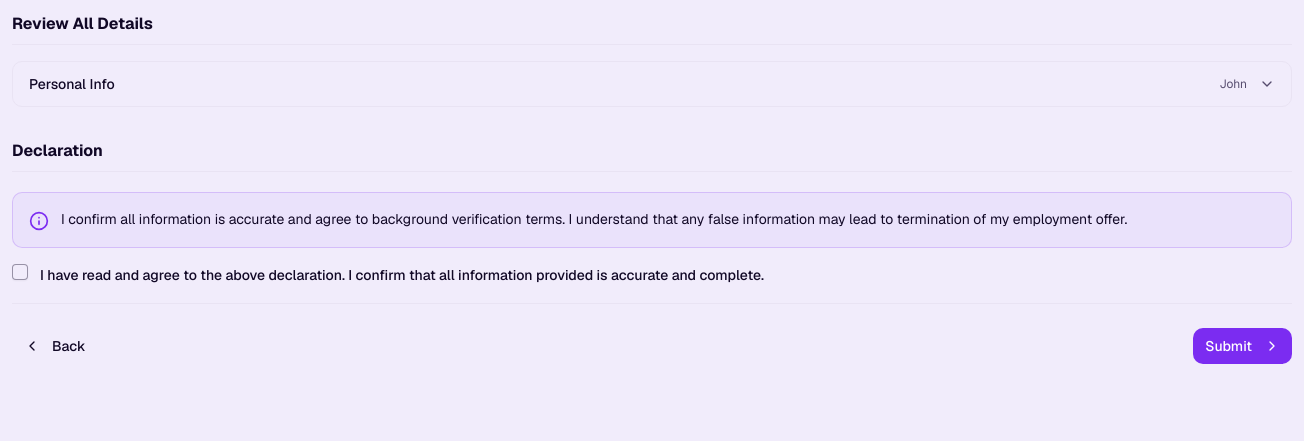
it: ReviewStep › displays server error message on submit failure
# Check the declaration checkbox (required)
Click the checkbox at (20, 272), box [12,264,28,280]
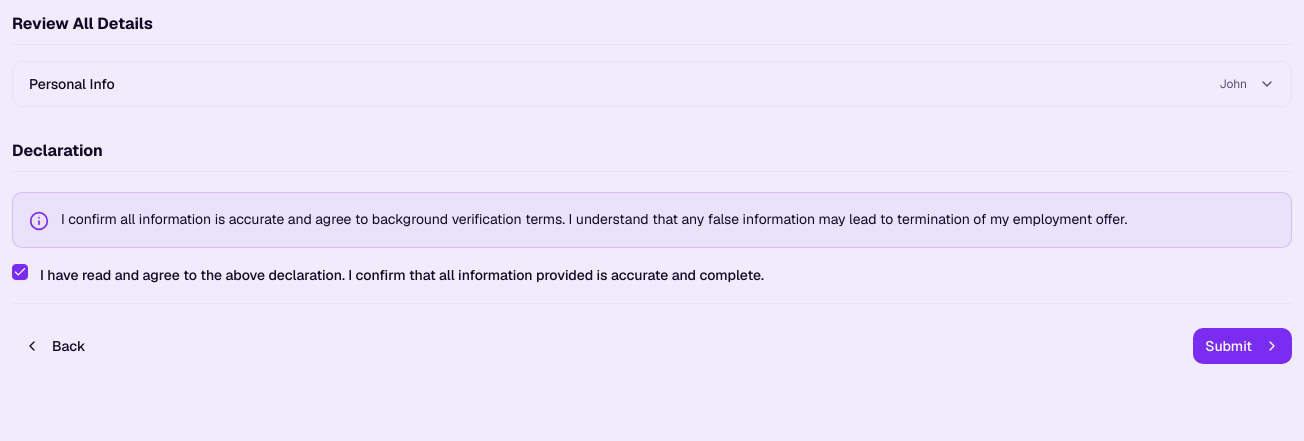
Click the button "Submit" at (1243, 346), box [1193,328,1292,364]
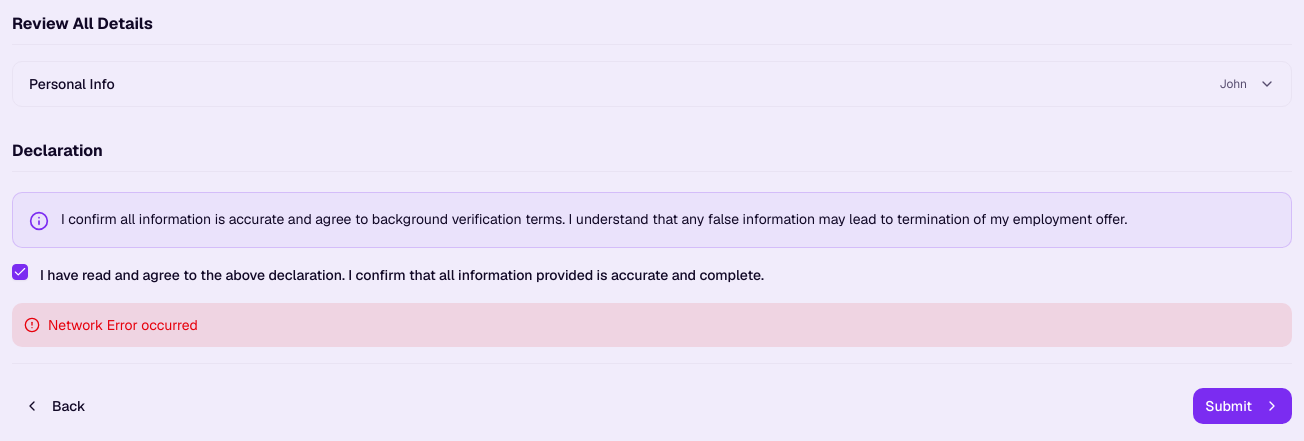
Expected: the text "Network Error occurred" is shown, [12,303,1292,347]
